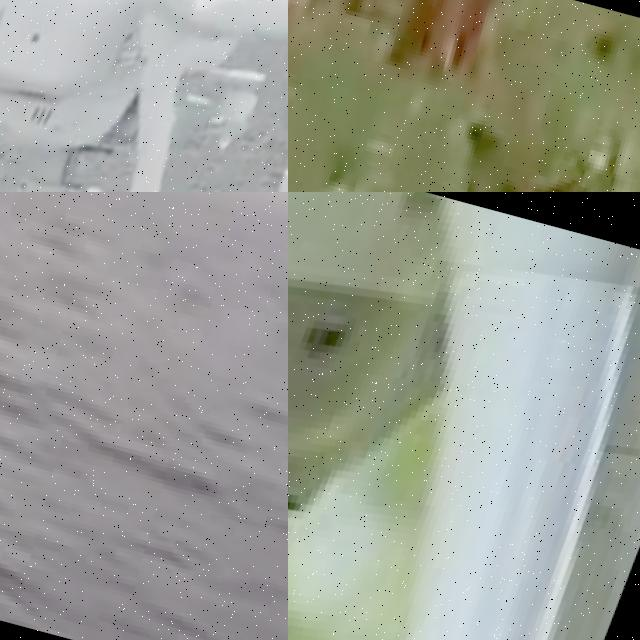drone: (288, 192, 640, 640), (0, 0, 288, 192)
